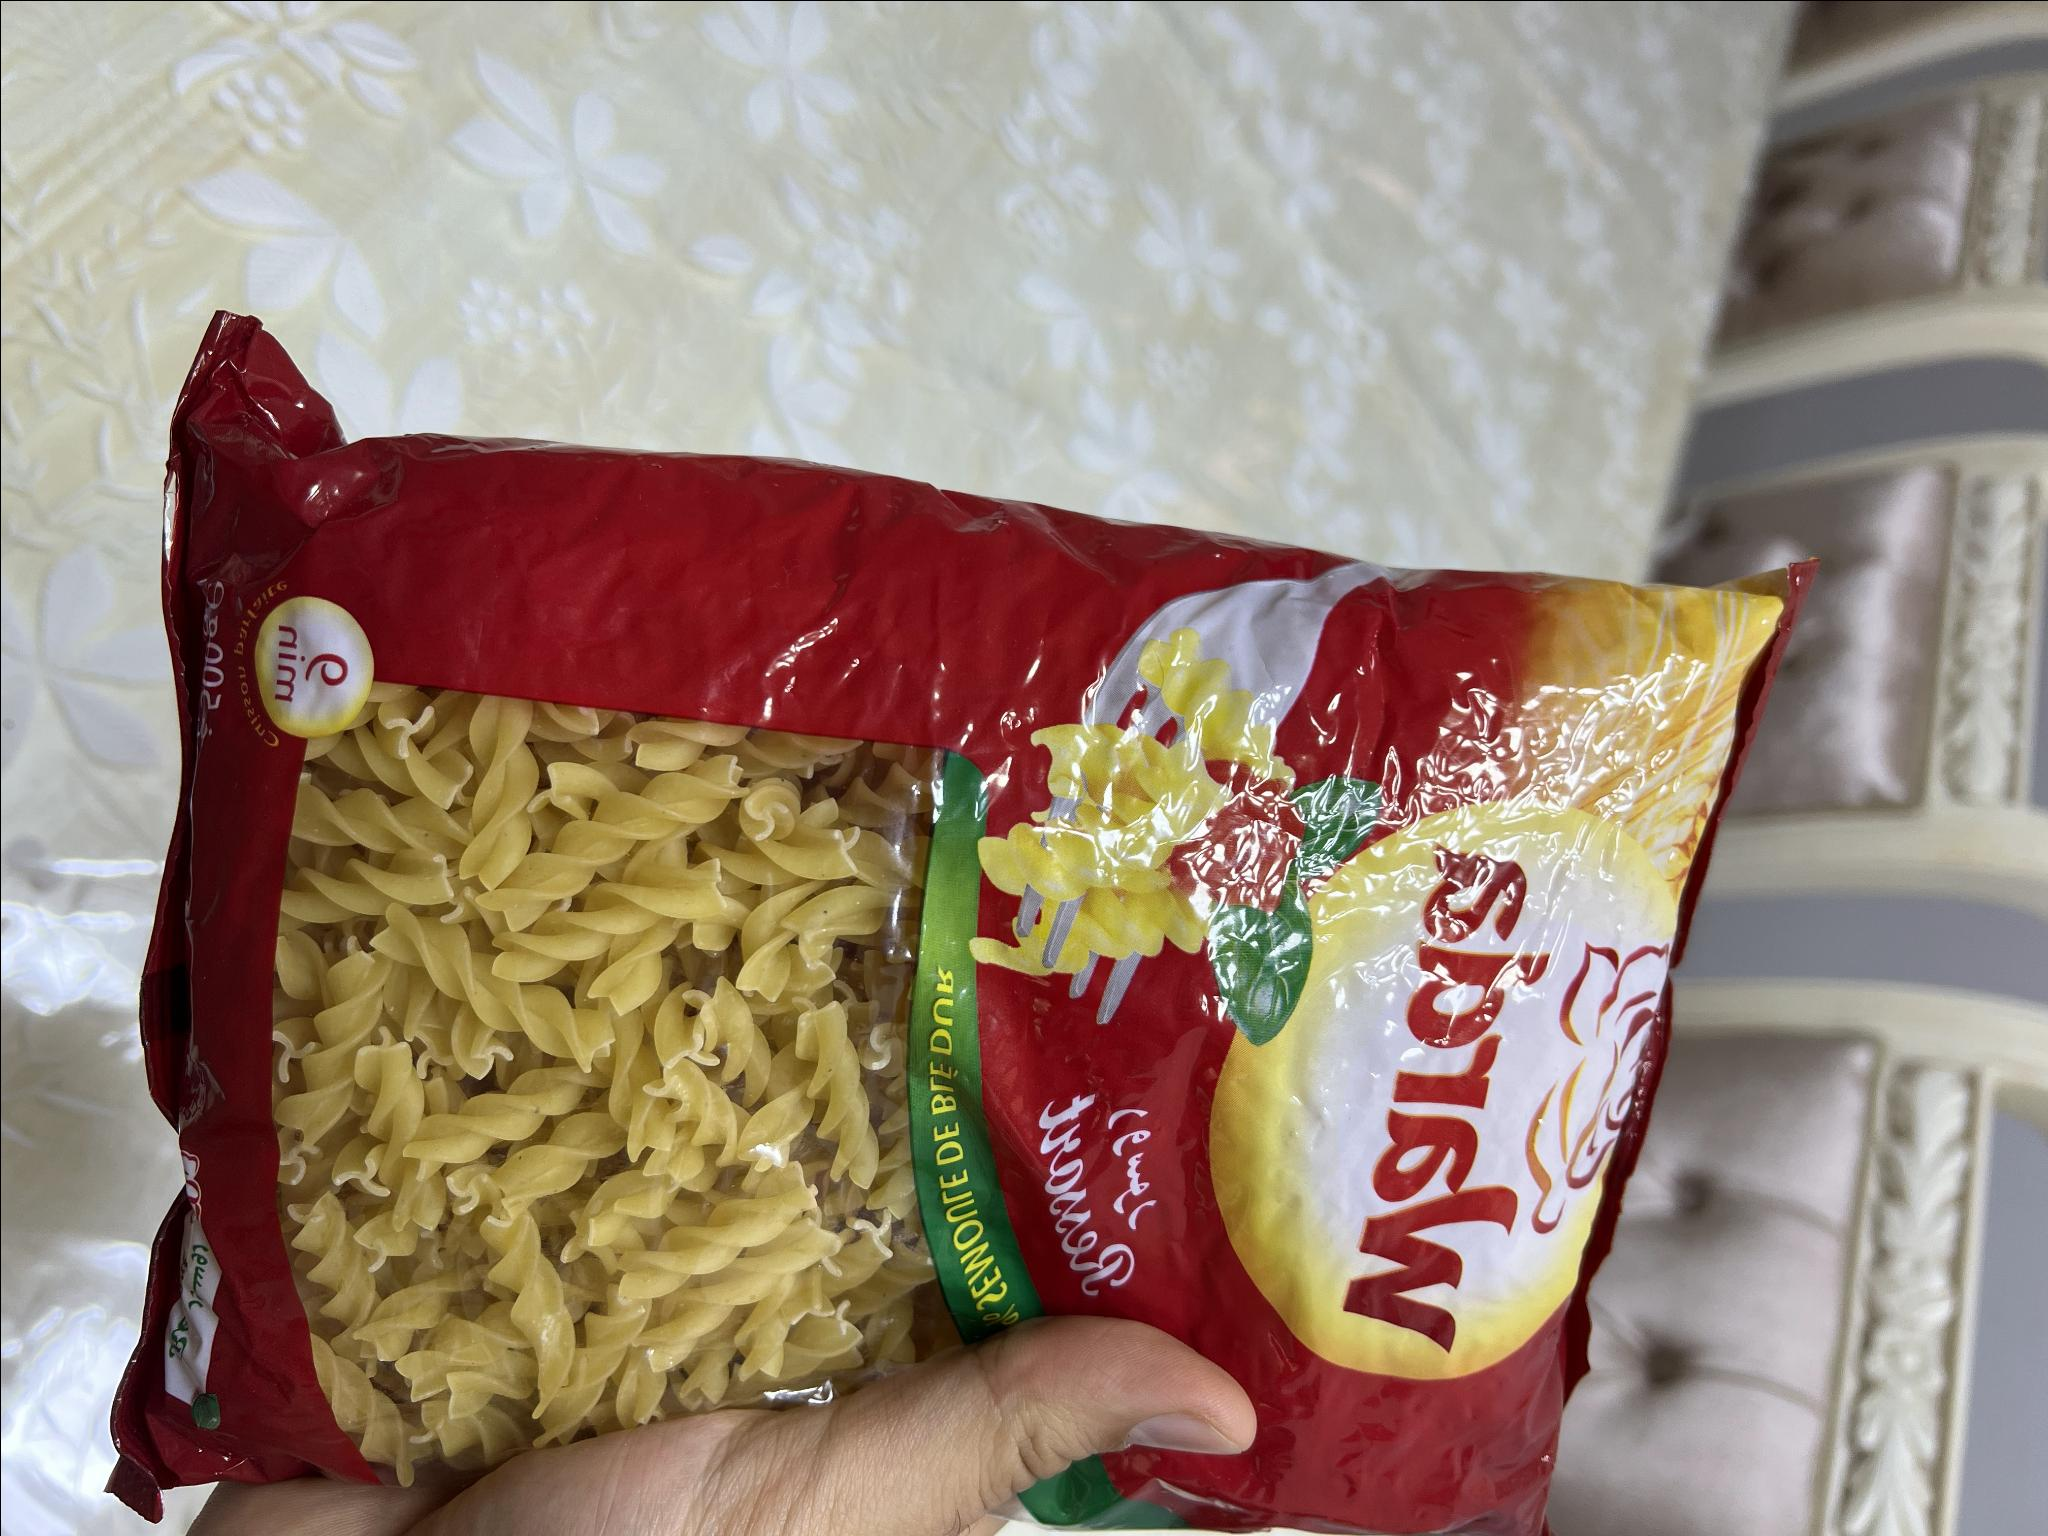Spaghetti: (95, 308, 1811, 1534)
